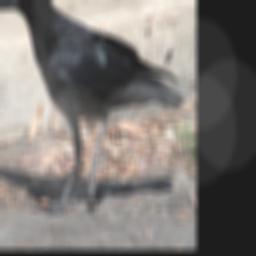Crow: (0, 0, 183, 211)
